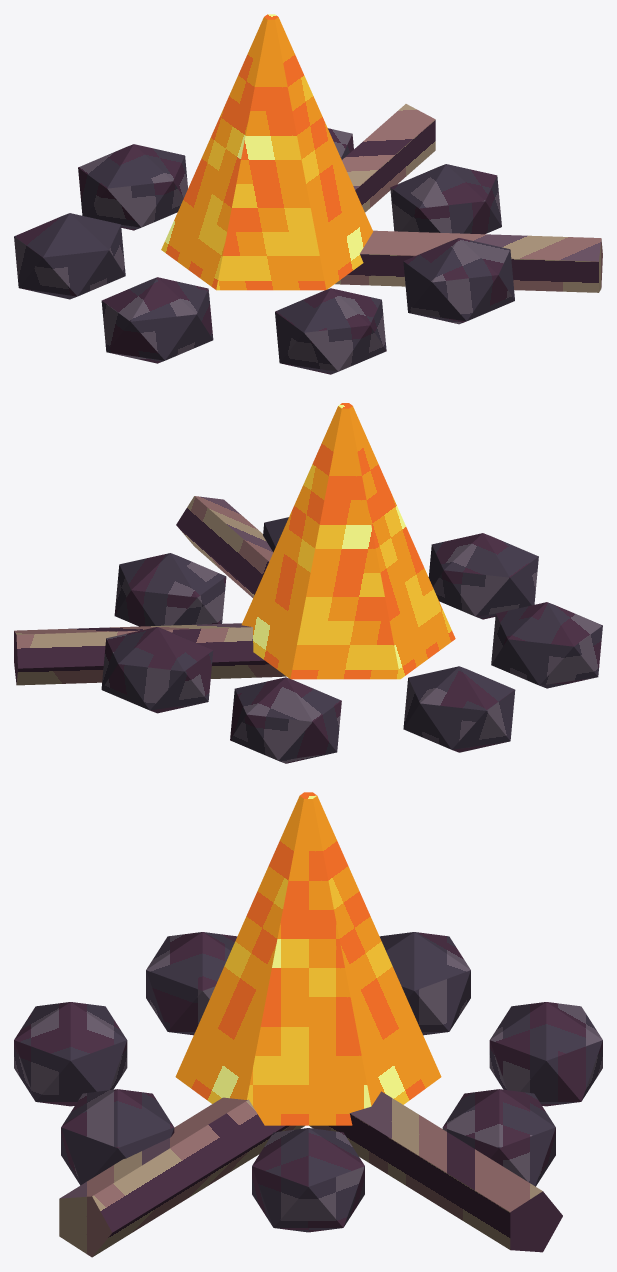
The model's file is acampamento_cinzas_fogueira_grande.glb.
The picture shows the model from 3 angles, top to bottom: view 1: azimuth 30°, elevation 25°; view 2: azimuth 150°, elevation 25°; view 3: azimuth 270°, elevation 25°; orthographic projection. The views are drawn at different scales.
Visible parts, largest first — view 1: acampamento_cinzas_fogueira_grande; view 2: acampamento_cinzas_fogueira_grande; view 3: acampamento_cinzas_fogueira_grande.
Boxes of the visible parts, x1,y1,x2,y2 form: acampamento_cinzas_fogueira_grande: (14,14,602,374); acampamento_cinzas_fogueira_grande: (14,403,602,763); acampamento_cinzas_fogueira_grande: (14,792,602,1257).
Bounding box in the file's own units: 1.44 × 0.83 × 1.33.
3 materials, 3 textured.
